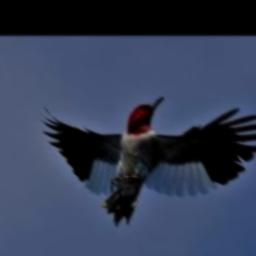Woodpecker: (42, 97, 256, 226)
